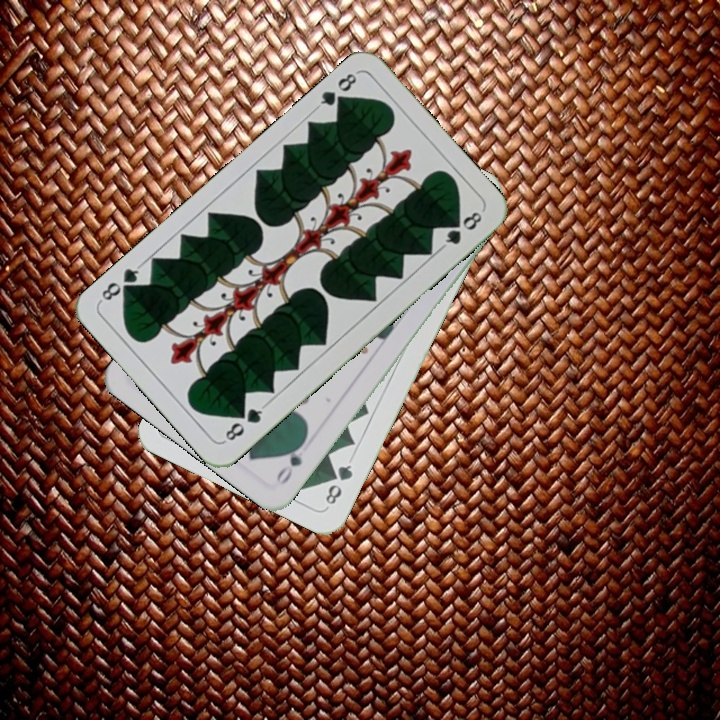G8: (311, 68, 362, 112), (219, 401, 268, 445), (321, 460, 355, 508)
GO: (272, 434, 309, 488)
